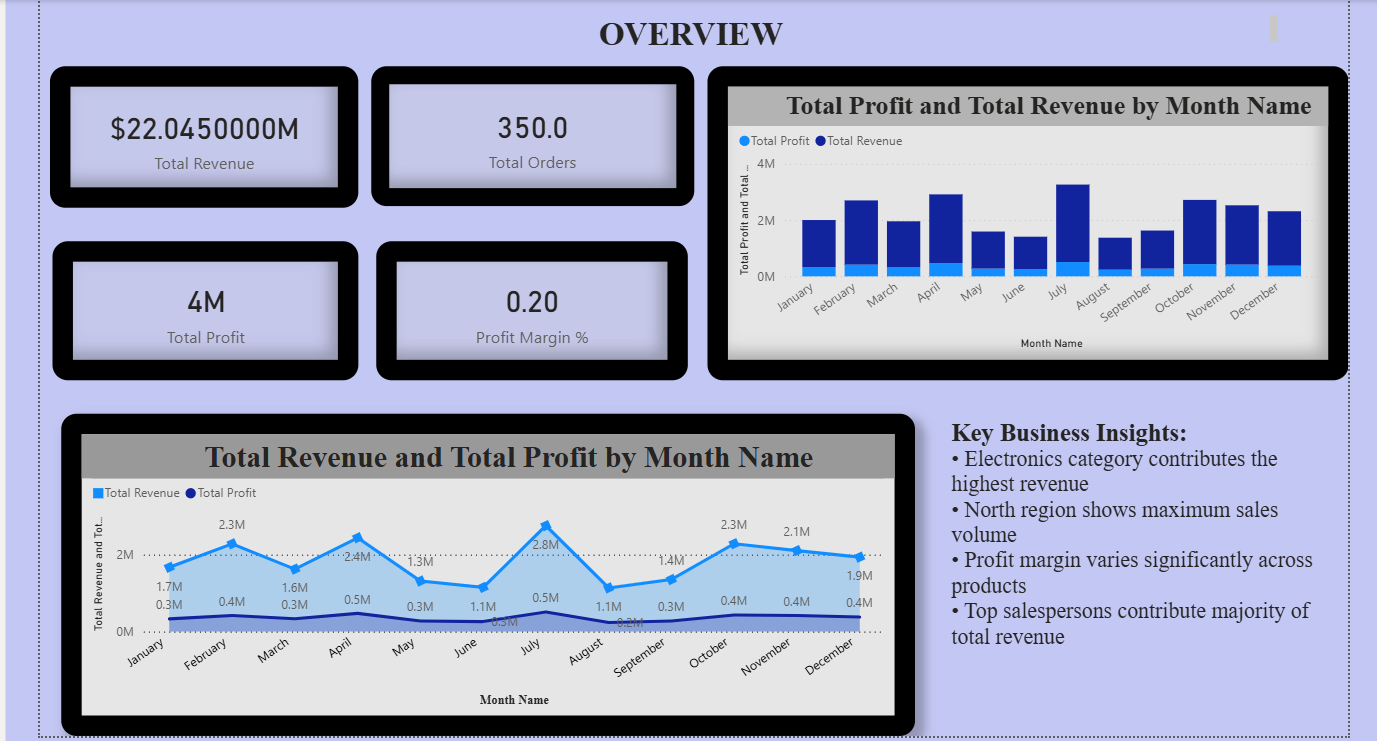

The page's visual inventory and layout, read from the dashboard file:
{"tool":"powerbi","page":{"name":"OVERVIEW","canvas":[1280,720],"ordinal":0},"visuals":[{"type":"card","fields":{"Values":["Sales_Data_FIXED.Total Revenue"]},"box":[10,64.3,301.4,138.6],"z":0},{"type":"card","fields":{"Values":["Sales_Data_FIXED.Total Profit"]},"box":[12.2,236,299.6,135.7],"z":1000},{"type":"card","fields":{"Values":["Sales_Data_FIXED.Profit Margin %"]},"box":[328.9,236,304.5,135.7],"z":2000},{"type":"card","fields":{"Values":["Sales_Data_FIXED.Total Orders"]},"box":[324.3,64.3,315.7,137.1],"z":3000},{"type":"lineChart","fields":{"Y":["Sales_Data_FIXED.Total Revenue","Sales_Data_FIXED.Total Profit"],"Category":["Sales_Data_FIXED.Month Name"]},"box":[20.8,404.8,835.2,315.5],"z":4000},{"type":"columnChart","fields":{"Category":["Sales_Data_FIXED.Month Name"],"Y":["Sales_Data_FIXED.Total Profit","Sales_Data_FIXED.Total Revenue"]},"box":[653,64.8,627.3,306.9],"z":5000},{"type":"textbox","box":[65.7,10,1150,41.4],"z":6000},{"type":"textbox","box":[886.6,404.8,379.1,298.4],"z":6001}]}

Visuals, with their boxes on the page's 1280x720 design canvas (x1, y1, x2, y2). These are canvas units, not pixel positions in the 1377x741 screenshot, which may show the page scaled, cropped or inside an application window:
card - Sales_Data_FIXED.Total Revenue: [x1=10, y1=64, x2=311, y2=203]
card - Sales_Data_FIXED.Total Profit: [x1=12, y1=236, x2=312, y2=372]
card - Sales_Data_FIXED.Profit Margin %: [x1=329, y1=236, x2=633, y2=372]
card - Sales_Data_FIXED.Total Orders: [x1=324, y1=64, x2=640, y2=201]
lineChart - Sales_Data_FIXED.Total Revenue x Sales_Data_FIXED.Total Profit: [x1=21, y1=405, x2=856, y2=720]
columnChart - Sales_Data_FIXED.Month Name x Sales_Data_FIXED.Total Profit: [x1=653, y1=65, x2=1280, y2=372]
textbox: [x1=66, y1=10, x2=1216, y2=51]
textbox: [x1=887, y1=405, x2=1266, y2=703]
